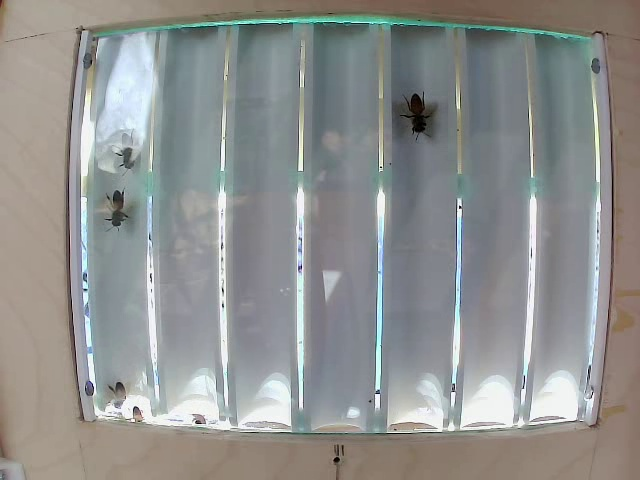bee: (397, 75, 442, 146), (102, 184, 138, 244)
